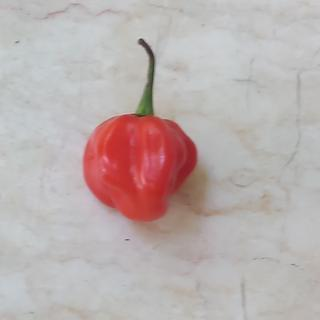Grade-B: (80, 112, 200, 224)
